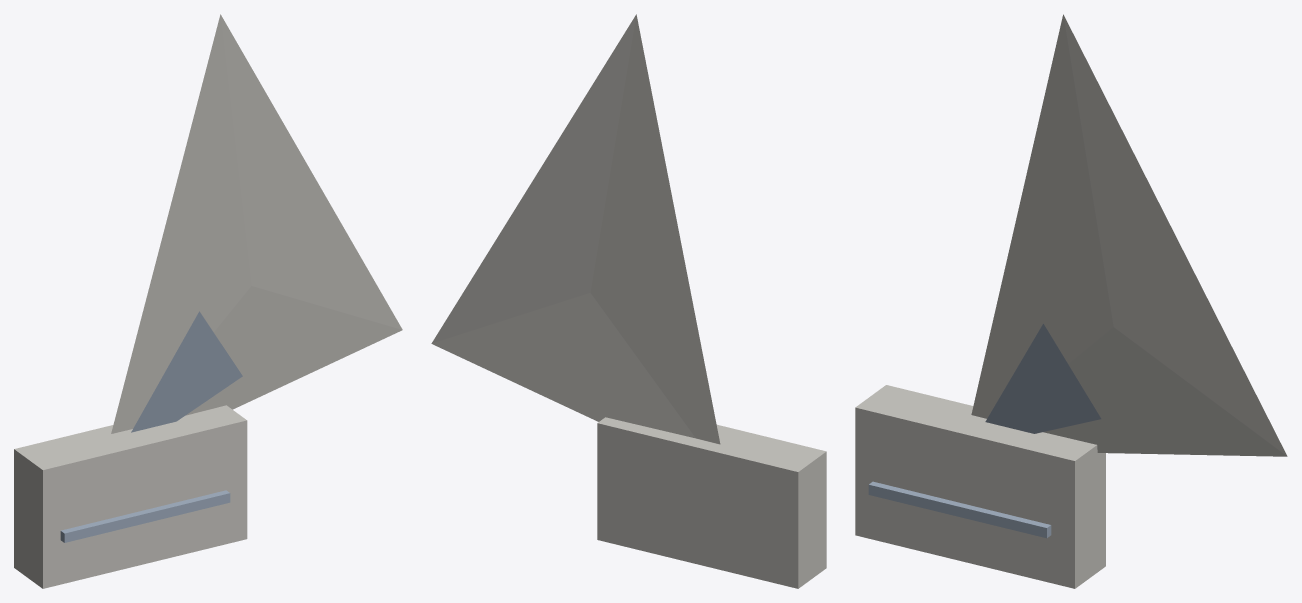
File: case_d37_tissue.glb
The picture shows the model from 3 angles, left to right: view 1: azimuth 30°, elevation 25°; view 2: azimuth 150°, elevation 25°; view 3: azimuth 330°, elevation 25°; orthographic projection. The views are drawn at different scales.
Visible parts, largest first — view 1: sail_mesh, paper_body; view 2: sail_mesh, paper_body; view 3: sail_mesh, paper_body.
Boxes of the visible parts, x1,y1,x2,y2 form: sail_mesh: (111, 14, 402, 433); paper_body: (14, 405, 247, 588); sail_mesh: (431, 14, 720, 444); paper_body: (597, 417, 826, 588); sail_mesh: (971, 14, 1287, 456); paper_body: (855, 385, 1105, 588).
Size of the model in its own units: 0.1678 by 0.2206 by 0.0255.
